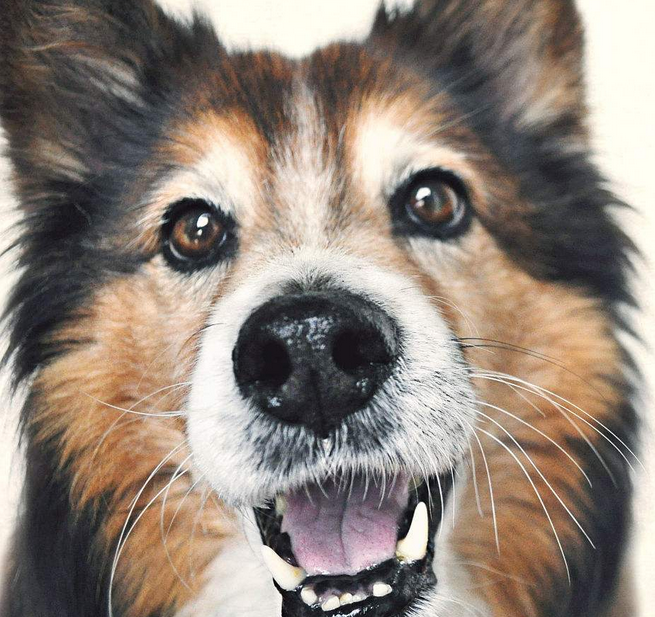nose: (207, 274, 410, 422)
